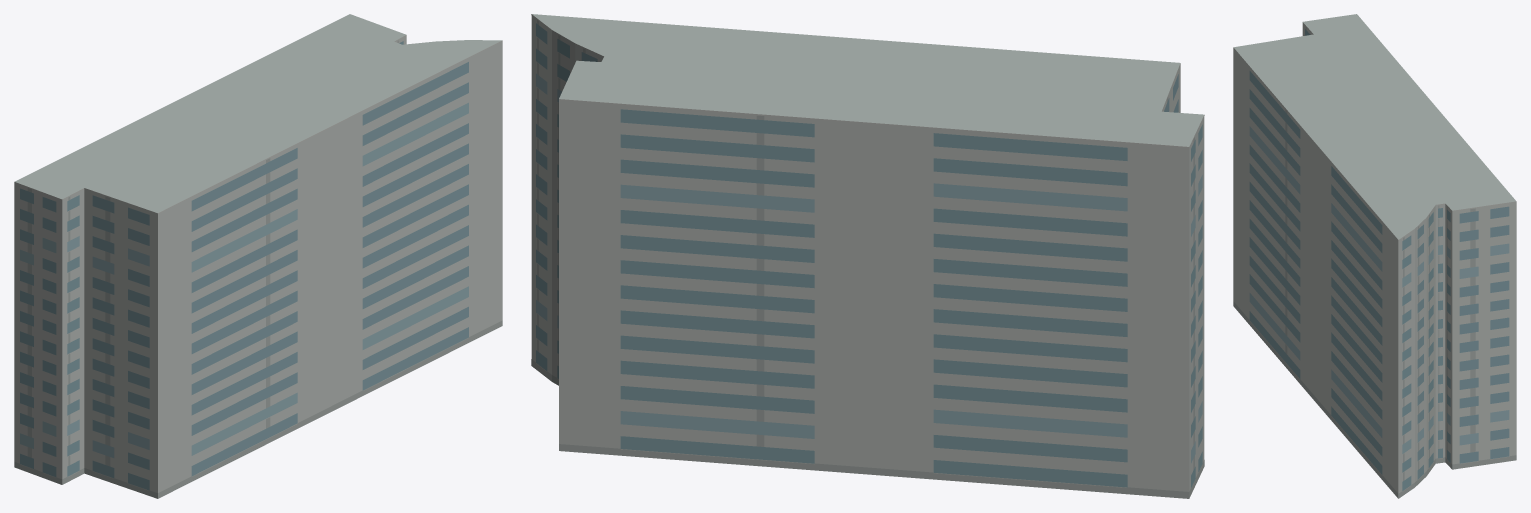
Rendered from survey-upis-32909794.glb.
3 renders of one model, left to right at view 1: azimuth 30°, elevation 25°; view 2: azimuth 150°, elevation 25°; view 3: azimuth 270°, elevation 25°, orthographic. The views are drawn at different scales.
Parts seen in each view (by area): view 1: survey-upis-32909794.tmp; view 2: survey-upis-32909794.tmp; view 3: survey-upis-32909794.tmp.
Boxes of the visible parts, <box> form: survey-upis-32909794.tmp: <box>14,14,502,498</box>; survey-upis-32909794.tmp: <box>531,14,1204,498</box>; survey-upis-32909794.tmp: <box>1233,14,1516,498</box>.
Bounding box in the file's own units: 112 × 59.7 × 59.17.
